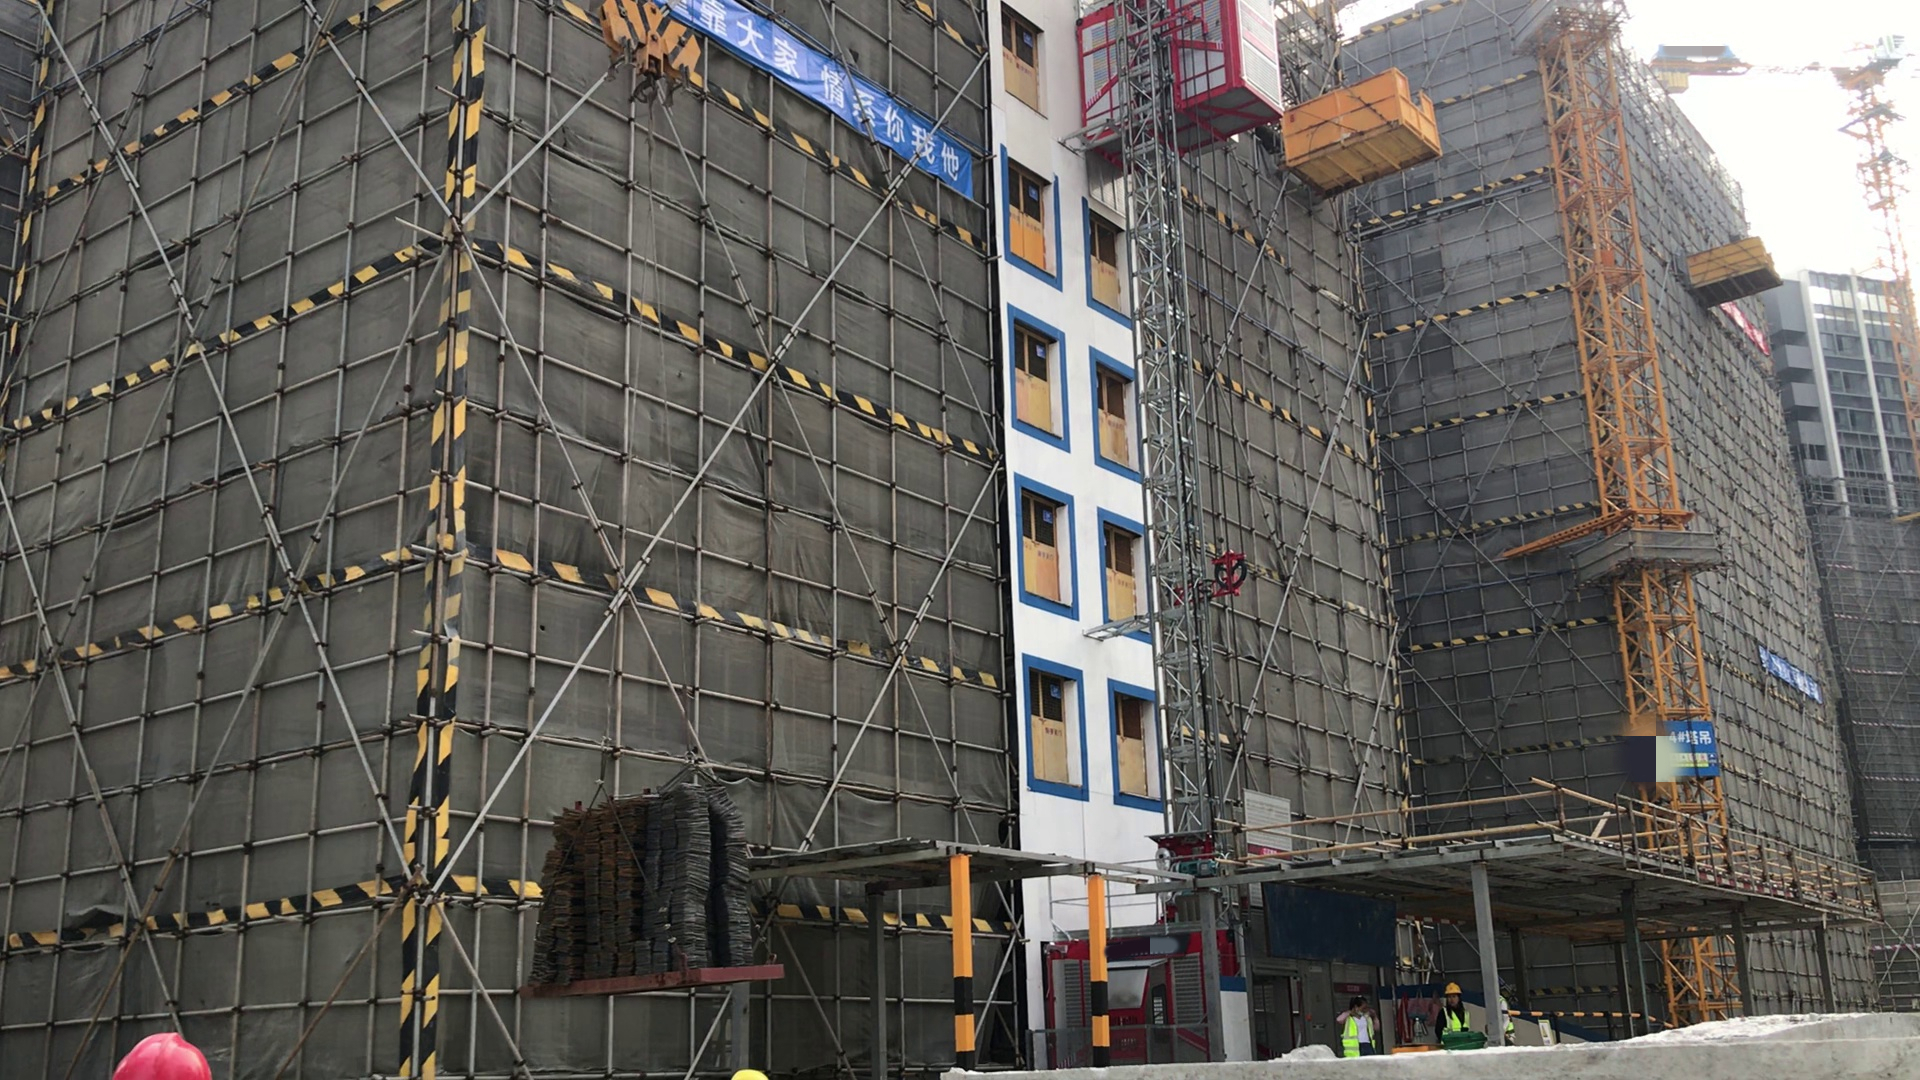helmet: (111, 1030, 208, 1080), (1441, 981, 1464, 995)
hook: (600, 1, 703, 112)
person: (1336, 994, 1384, 1060), (1437, 983, 1474, 1037), (1497, 987, 1518, 1042)
slogan: (706, 1, 978, 204), (1756, 639, 1827, 709), (1655, 720, 1720, 776), (1721, 301, 1775, 358), (1536, 1015, 1554, 1050)
vest: (1342, 1012, 1377, 1055), (1444, 1006, 1471, 1033)
